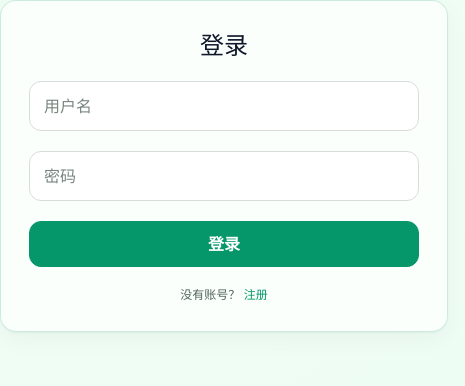
Test case: 登录页 › 保留登录字段、唯一提交按钮和警告区域
The width and height of the screenshot is (465, 386).
Click the button "登录". click: click(224, 244)
box: [29,221,419,267]
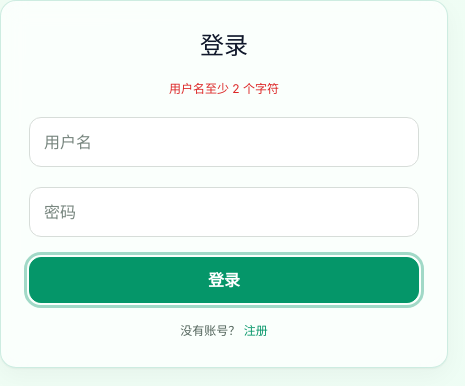
Check: the message reads "用户名至少 2 个字符", box [169,81,279,96]
